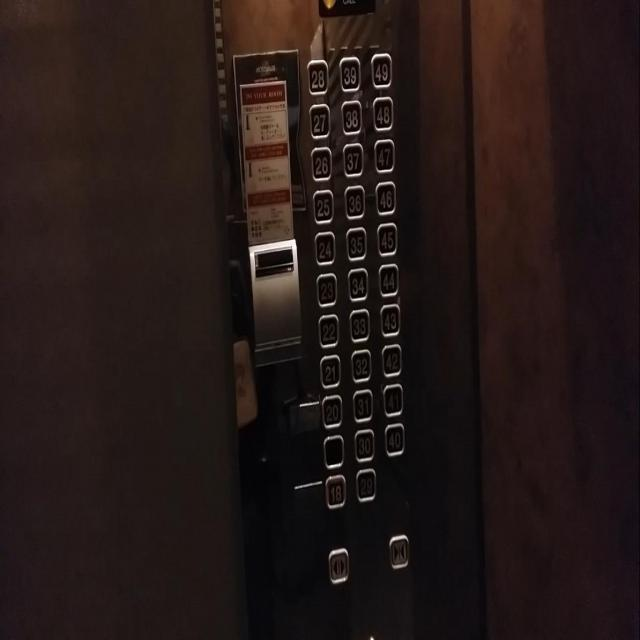18: (325, 472, 346, 510)
20: (322, 393, 342, 431)
21: (320, 353, 341, 388)
22: (317, 314, 338, 348)
23: (316, 272, 337, 306)
24: (314, 231, 335, 263)
25: (312, 188, 335, 224)
26: (310, 146, 333, 182)
27: (309, 102, 330, 138)
28: (306, 59, 328, 93)
29: (356, 468, 376, 502)
30: (354, 429, 374, 461)
31: (352, 388, 373, 424)
32: (350, 348, 370, 382)
33: (349, 307, 370, 341)
34: (347, 267, 367, 301)
35: (345, 226, 367, 261)
36: (344, 184, 364, 218)
37: (342, 142, 363, 176)
38: (340, 99, 360, 133)
39: (339, 56, 361, 91)
40: (384, 423, 404, 455)
41: (382, 382, 403, 416)
42: (381, 342, 401, 377)
43: (381, 302, 399, 338)
44: (378, 262, 397, 296)
45: (377, 222, 397, 255)
46: (374, 180, 396, 215)
47: (374, 138, 394, 172)
48: (372, 96, 393, 131)
49: (371, 52, 392, 88)
close: (389, 533, 409, 570)
empty: (323, 433, 344, 469)
open: (328, 546, 349, 585)
